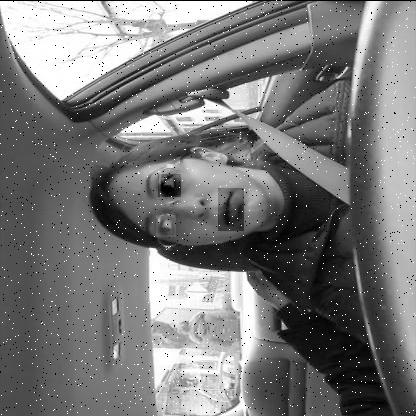seatbelt: (80, 121, 416, 258)
